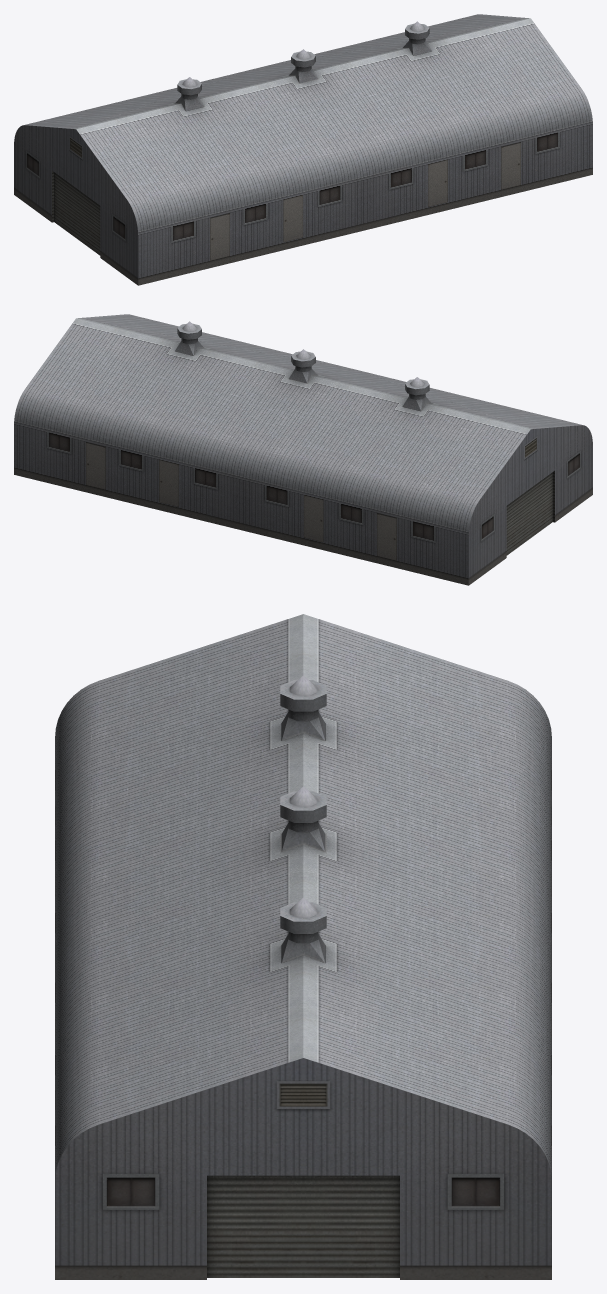
The model's file is modern_barn.obj.
3 views of the same model, one above another, from view 1: azimuth 30°, elevation 25°; view 2: azimuth 150°, elevation 25°; view 3: azimuth 270°, elevation 25° (orthographic). The views are drawn at different scales.
Parts seen in each view (by area): view 1: polySurface140 polySurface137; view 2: polySurface140 polySurface137; view 3: polySurface140 polySurface137.
Part boxes in pixels (x1=…): polySurface140 polySurface137: x1=14, y1=14, x2=592, y2=285; polySurface140 polySurface137: x1=14, y1=314, x2=592, y2=585; polySurface140 polySurface137: x1=55, y1=614, x2=551, y2=1279.
Size of the model in its own units: 44.36 by 12.66 by 20.99.
